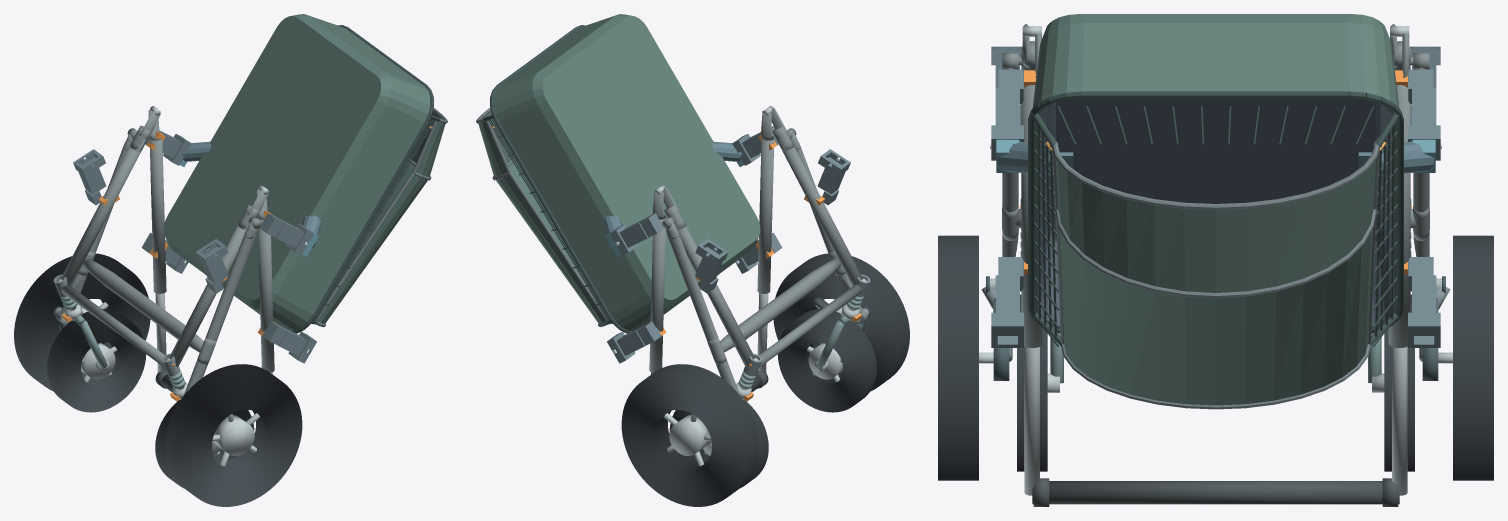
The model's file is S04_w650_state3_wheel_L.glb.
3 renders of one model, left to right at view 1: azimuth 30°, elevation 25°; view 2: azimuth 150°, elevation 25°; view 3: azimuth 270°, elevation 25°, orthographic. The views are drawn at different scales.
Visible parts, largest first — view 1: S04_Cabin, RL_tire.008, FR_tire.008, RR_tire.008, V46_rearbar.009, main_lower_1.009, main_upper_1.009, V46_rear_leg_-1.009, main_upper_-1.009, main_lower_-1.009, front_fixed_round_tube.008, RL_sealed_hub.008 (+10 smaller); view 2: S04_Cabin, RR_tire.008, FL_tire.008, RL_tire.008, V46_rearbar.009, main_lower_-1.009, main_upper_-1.009, V46_rear_leg_1.009, main_upper_1.009, main_lower_1.009, front_fixed_round_tube.008, RR_sealed_hub.008 (+10 smaller); view 3: S04_Cabin, RL_tire.008, RR_tire.008, round_handle.008, S04_Cabin_Mount_M, Universal_Cabin_Receiver_H_1, Universal_Cabin_Receiver_H_-1, handle_slider_1.008, handle_slider_-1.008, FL_tire.008, FR_tire.008, Universal_Cabin_Receiver_M_-1 (+5 smaller).
Part boxes in pixels (left/top/right/bottom): S04_Cabin: left=163, top=14, right=447, bottom=333; RL_tire.008: left=165, top=364, right=302, bottom=506; FR_tire.008: left=47, top=309, right=146, bottom=412; RR_tire.008: left=14, top=253, right=150, bottom=391; V46_rearbar.009: left=83, top=259, right=203, bottom=352; main_lower_1.009: left=61, top=139, right=145, bottom=285; main_upper_1.009: left=149, top=139, right=166, bottom=293; V46_rear_leg_-1.009: left=183, top=228, right=257, bottom=395; main_upper_-1.009: left=257, top=217, right=274, bottom=372; main_lower_-1.009: left=169, top=224, right=248, bottom=367; front_fixed_round_tube.008: left=61, top=284, right=164, bottom=367; RL_sealed_hub.008: left=214, top=415, right=254, bottom=455; S04_Cabin: left=476, top=14, right=760, bottom=333; RR_tire.008: left=621, top=364, right=758, bottom=506; FL_tire.008: left=777, top=309, right=876, bottom=412; RL_tire.008: left=773, top=253, right=909, bottom=391; V46_rearbar.009: left=720, top=259, right=840, bottom=352; main_lower_-1.009: left=778, top=139, right=862, bottom=285; main_upper_-1.009: left=757, top=138, right=774, bottom=293; V46_rear_leg_1.009: left=666, top=228, right=740, bottom=395; main_upper_1.009: left=649, top=217, right=666, bottom=372; main_lower_1.009: left=675, top=224, right=754, bottom=367; front_fixed_round_tube.008: left=759, top=284, right=862, bottom=367; RR_sealed_hub.008: left=669, top=415, right=709, bottom=455; S04_Cabin: left=1028, top=14, right=1403, bottom=409; RL_tire.008: left=938, top=235, right=978, bottom=480; RR_tire.008: left=1453, top=235, right=1493, bottom=480; round_handle.008: left=1032, top=481, right=1399, bottom=504; S04_Cabin_Mount_M: left=990, top=139, right=1441, bottom=181; Universal_Cabin_Receiver_H_1: left=1408, top=257, right=1440, bottom=347; Universal_Cabin_Receiver_H_-1: left=991, top=257, right=1023, bottom=347; handle_slider_1.008: left=1392, top=347, right=1407, bottom=495; handle_slider_-1.008: left=1024, top=347, right=1039, bottom=495; FL_tire.008: left=1017, top=294, right=1047, bottom=471; FR_tire.008: left=1384, top=294, right=1414, bottom=471; Universal_Cabin_Receiver_M_-1: left=991, top=69, right=1023, bottom=160.
Bounding box in the file's own units: 0.94 × 0.9792 × 0.8171.
